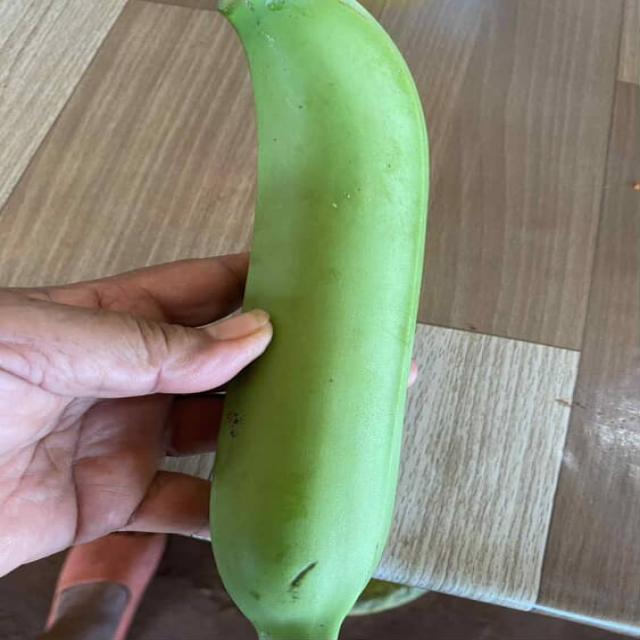Raw: (143, 0, 493, 640)
